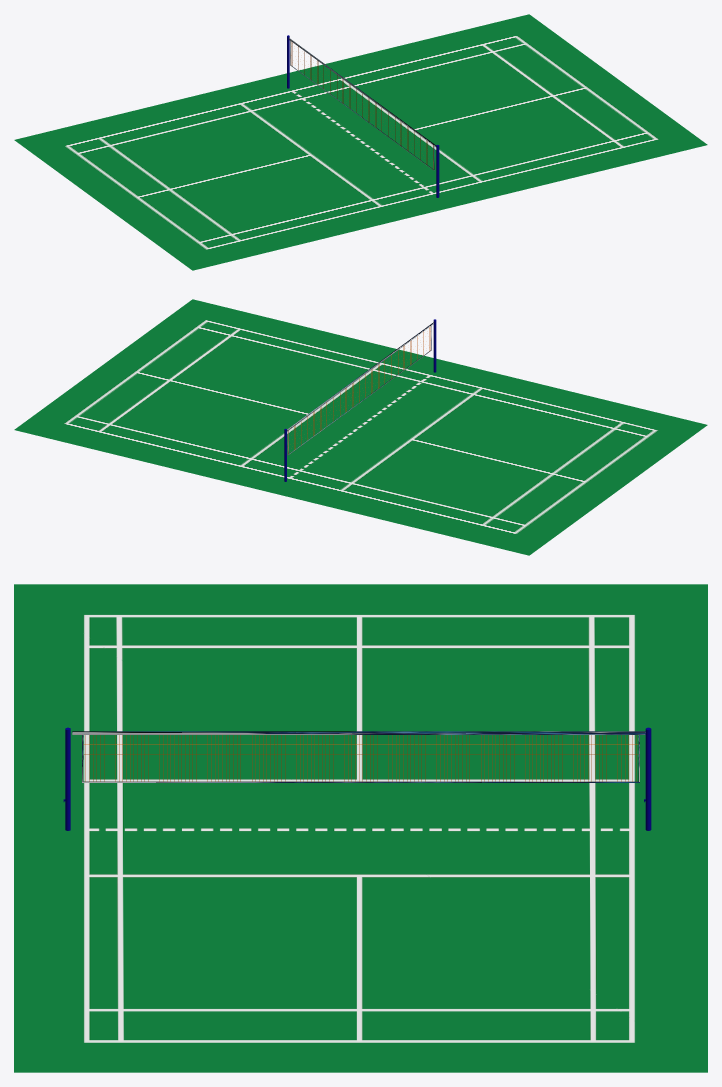
The model's file is badminton-court.glb.
The picture shows the model from 3 angles, top to bottom: view 1: azimuth 30°, elevation 25°; view 2: azimuth 150°, elevation 25°; view 3: azimuth 270°, elevation 25°; orthographic projection. The views are drawn at different scales.
Visible parts, largest first — view 1: Plane.003_23, Plane.002_24; view 2: Plane.003_23, Plane.002_24; view 3: Plane.003_23, Plane.002_24, Cube.007_26, Cube.008_27.
Boxes of the visible parts, left/top/right/bottom form: Plane.003_23: left=14, top=14, right=707, bottom=270; Plane.002_24: left=291, top=42, right=433, bottom=168; Plane.003_23: left=14, top=299, right=707, bottom=555; Plane.002_24: left=288, top=327, right=430, bottom=453; Plane.003_23: left=14, top=584, right=707, bottom=1072; Plane.002_24: left=83, top=735, right=638, bottom=781; Cube.007_26: left=72, top=731, right=645, bottom=734; Cube.008_27: left=82, top=781, right=639, bottom=782.
Bounding box in the file's own units: 37.72 × 3.7 × 22.65.
5 materials, 2 textured.
